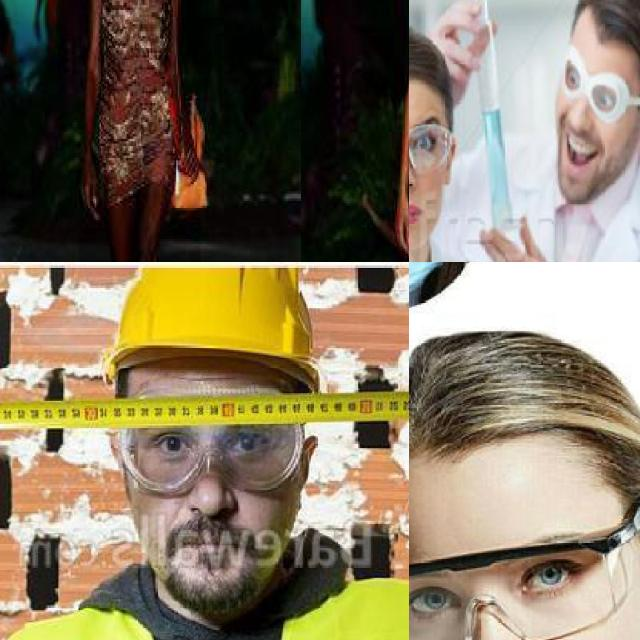face_nomask: (141, 425, 282, 569), (410, 543, 596, 640), (556, 53, 634, 178), (409, 118, 445, 233)
glasses: (409, 525, 635, 640), (127, 392, 307, 496), (556, 40, 630, 124), (409, 124, 453, 181)
hand_noglove: (426, 0, 497, 98), (472, 214, 566, 262), (76, 154, 107, 222), (175, 124, 202, 180), (387, 203, 409, 255)
head_helmet: (106, 262, 317, 390)
head_nohelmet: (409, 322, 640, 519), (571, 0, 640, 69), (409, 19, 453, 102)
person: (0, 262, 409, 640), (467, 0, 640, 262), (409, 0, 534, 262), (78, 0, 201, 262)
vest: (6, 585, 409, 640)
